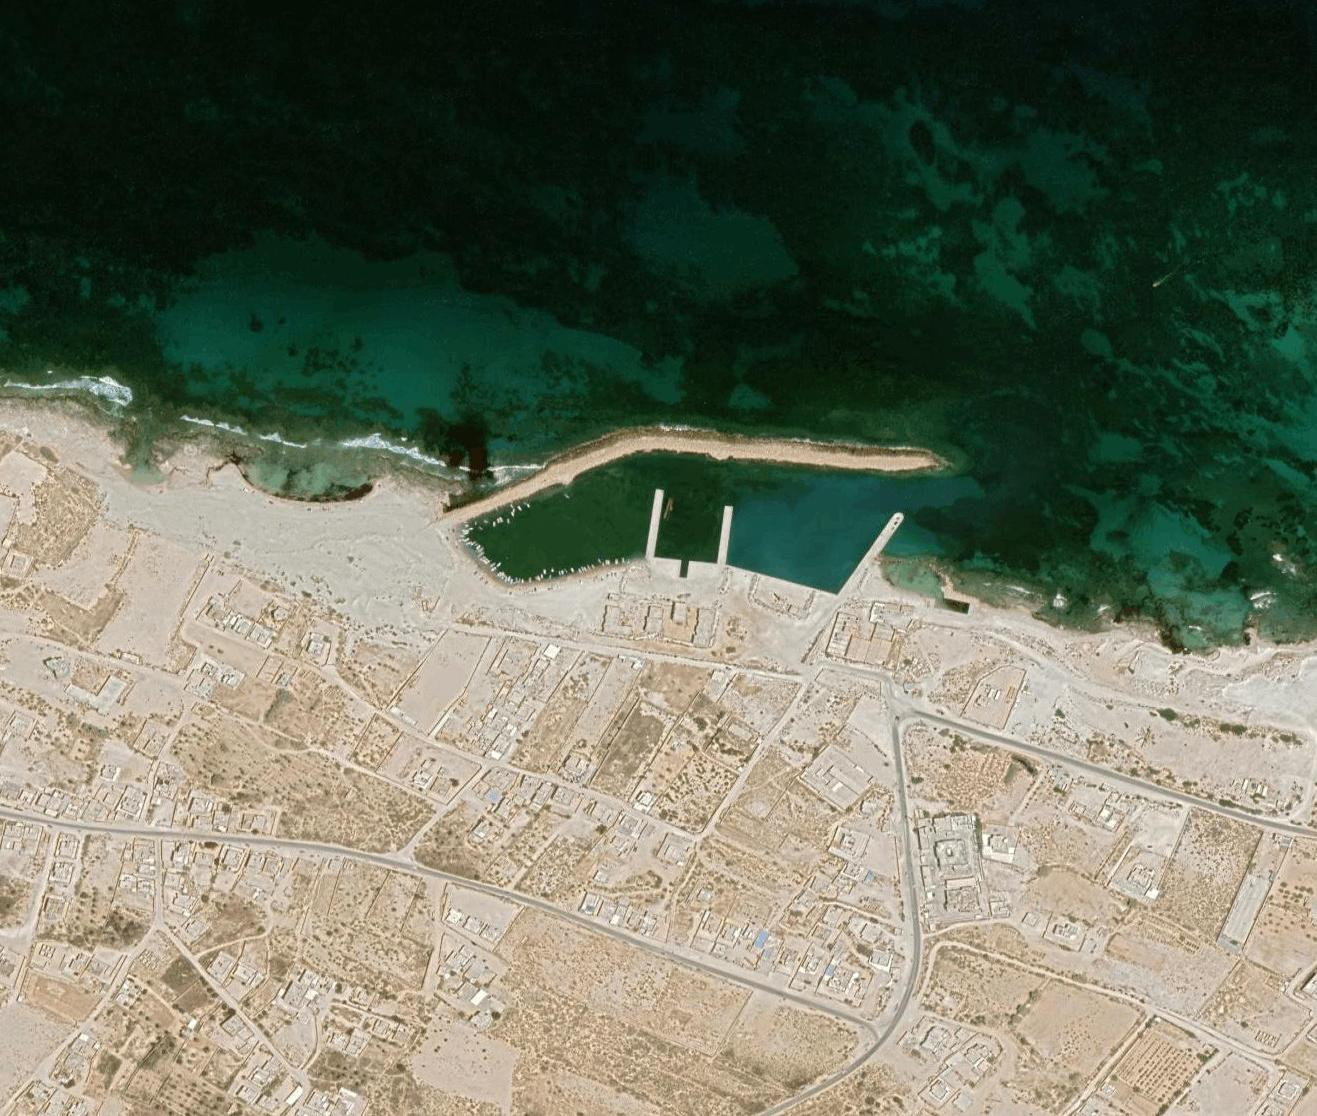harbor: (633, 475, 919, 600)
